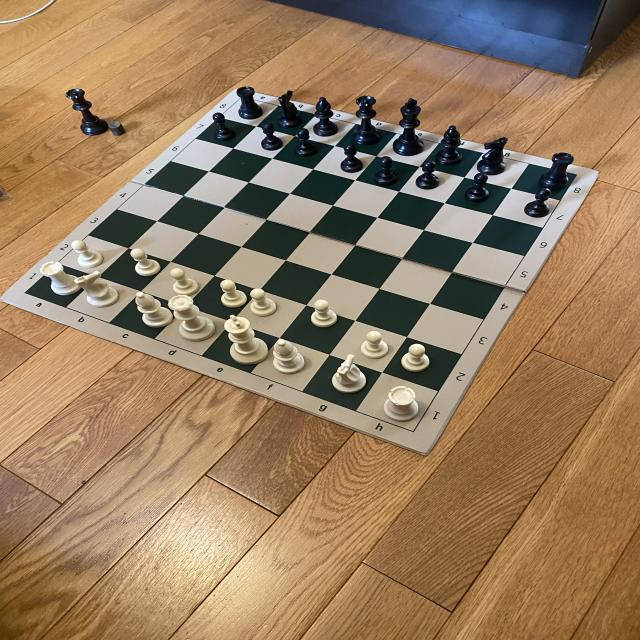Chessboard-Corners: (400, 420, 424, 440), (570, 170, 584, 182), (16, 289, 34, 297)
